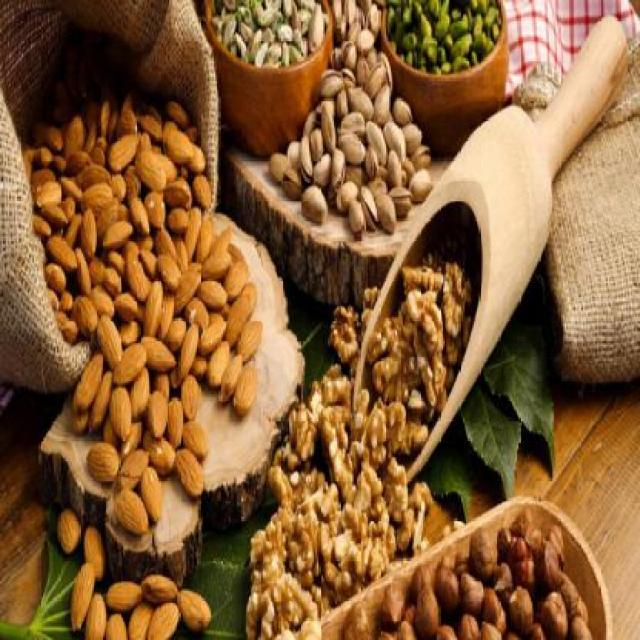Frutta secca: (24, 118, 252, 504), (256, 252, 453, 602), (328, 506, 589, 640), (276, 2, 427, 215)
